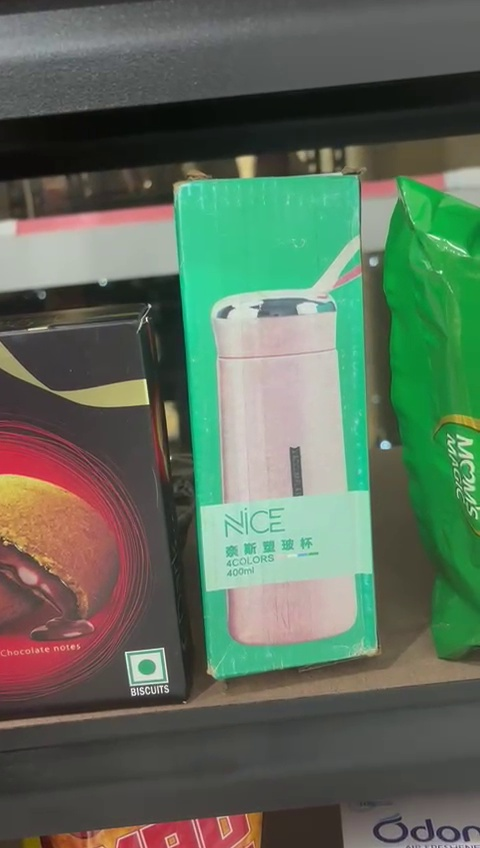Bottle: (170, 176, 378, 669)
